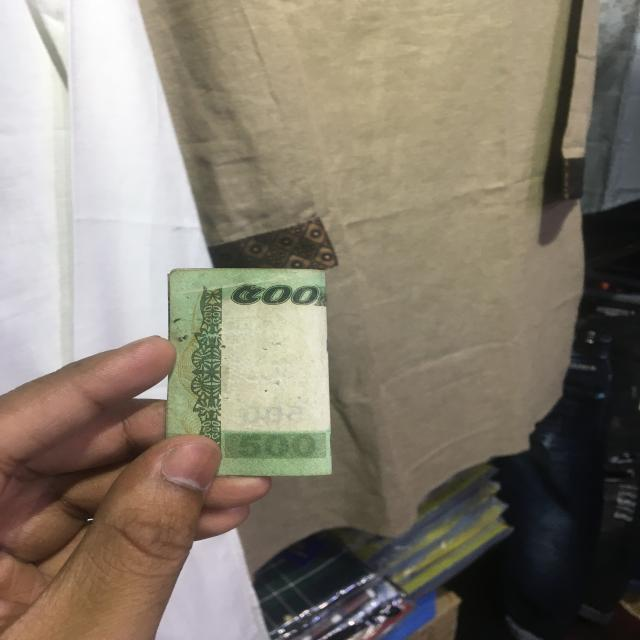Taka: (168, 266, 334, 478)
